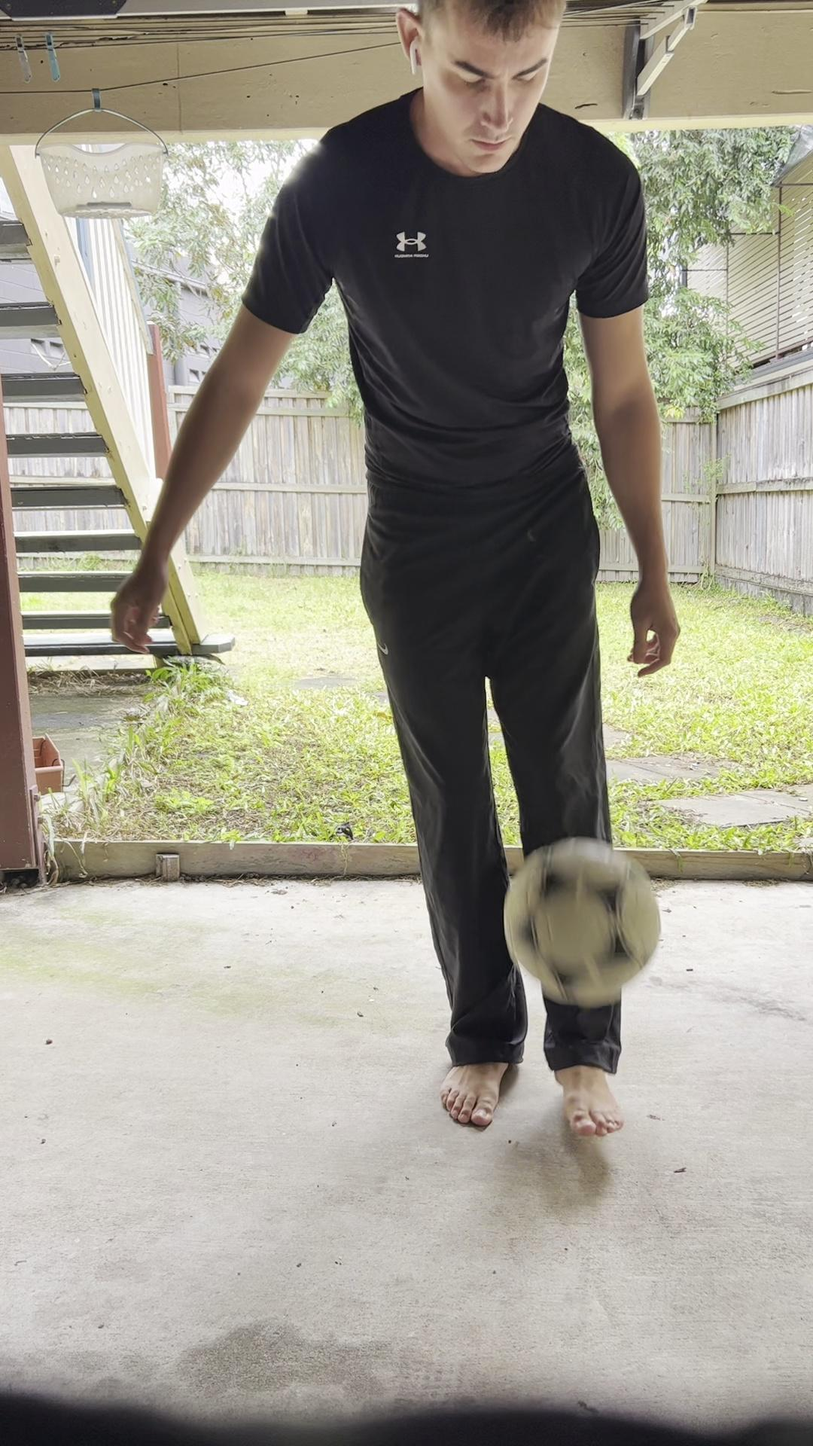ball: (501, 838, 664, 998)
foot: (553, 1068, 622, 1137), (439, 1063, 508, 1128)
person: (105, 0, 679, 1143)
